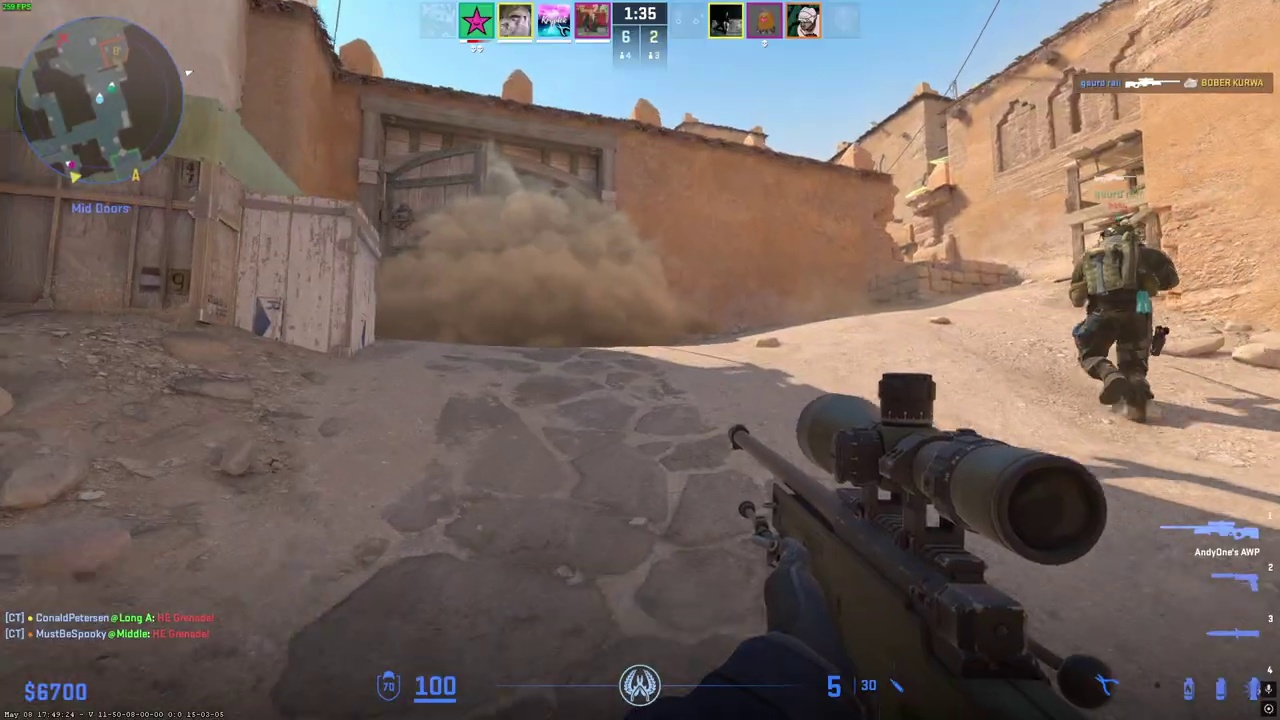CT: (1070, 225, 1170, 424)
